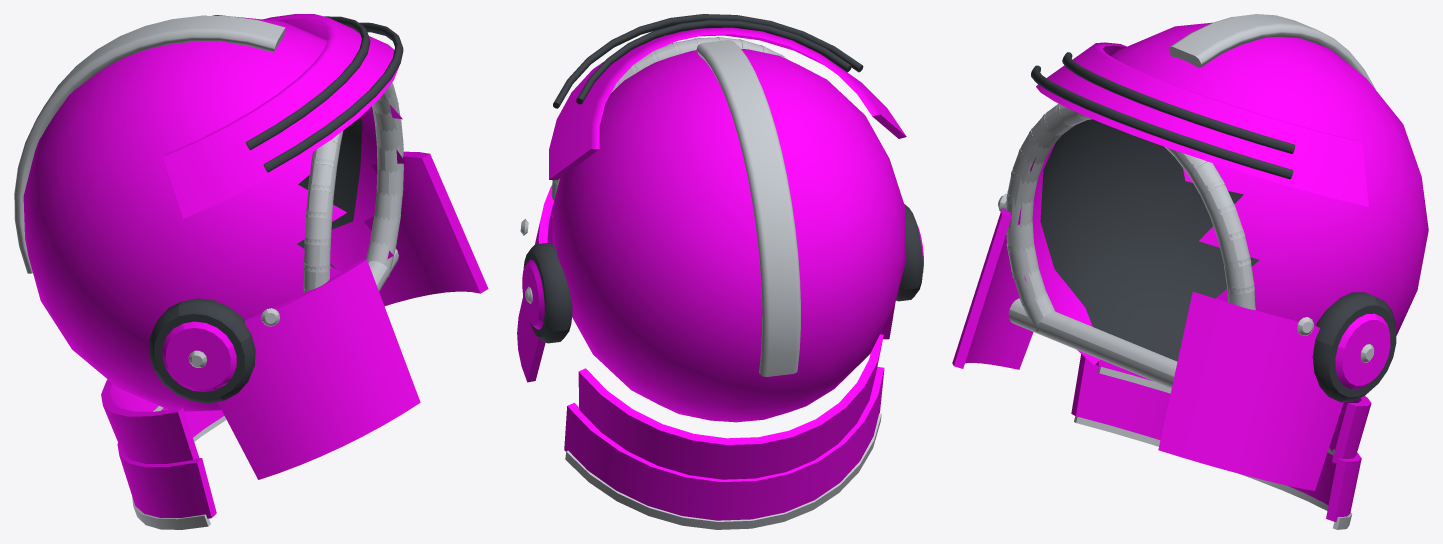
Rendered from objet_armure2_casque.glb.
3 renders of one model, left to right at view 1: azimuth 30°, elevation 25°; view 2: azimuth 150°, elevation 25°; view 3: azimuth 270°, elevation 25°, orthographic. The views are drawn at different scales.
Parts seen in each view (by area): view 1: tete__casque_teinte.010, tete__casque_rivet.006, tete__casque_teinte_sombre.010; view 2: tete__casque_teinte.010, tete__casque_rivet.006, tete__casque_teinte_sombre.010; view 3: tete__casque_teinte.010, tete__casque_teinte_sombre.010, tete__casque_rivet.006.
Boxes of the visible parts, x1,y1,x2,y2 form: tete__casque_teinte.010: (23,14,488,518); tete__casque_rivet.006: (14,15,403,529); tete__casque_teinte_sombre.010: (149,16,403,403); tete__casque_teinte.010: (517,27,923,520); tete__casque_rivet.006: (520,37,881,529); tete__casque_teinte_sombre.010: (523,14,922,343); tete__casque_teinte.010: (952,22,1428,521); tete__casque_teinte_sombre.010: (1031,52,1396,402); tete__casque_rivet.006: (998,14,1375,529).
Bounding box in the file's own units: 0.2788 × 0.3157 × 0.2779.
